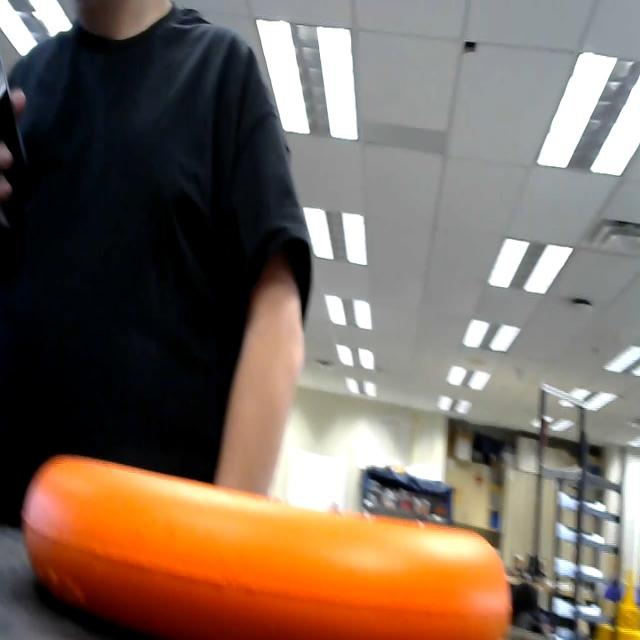note: (15, 436, 518, 640)
